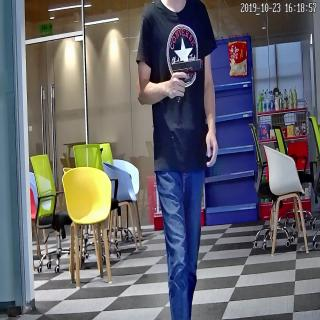gun: (168, 52, 207, 109)
